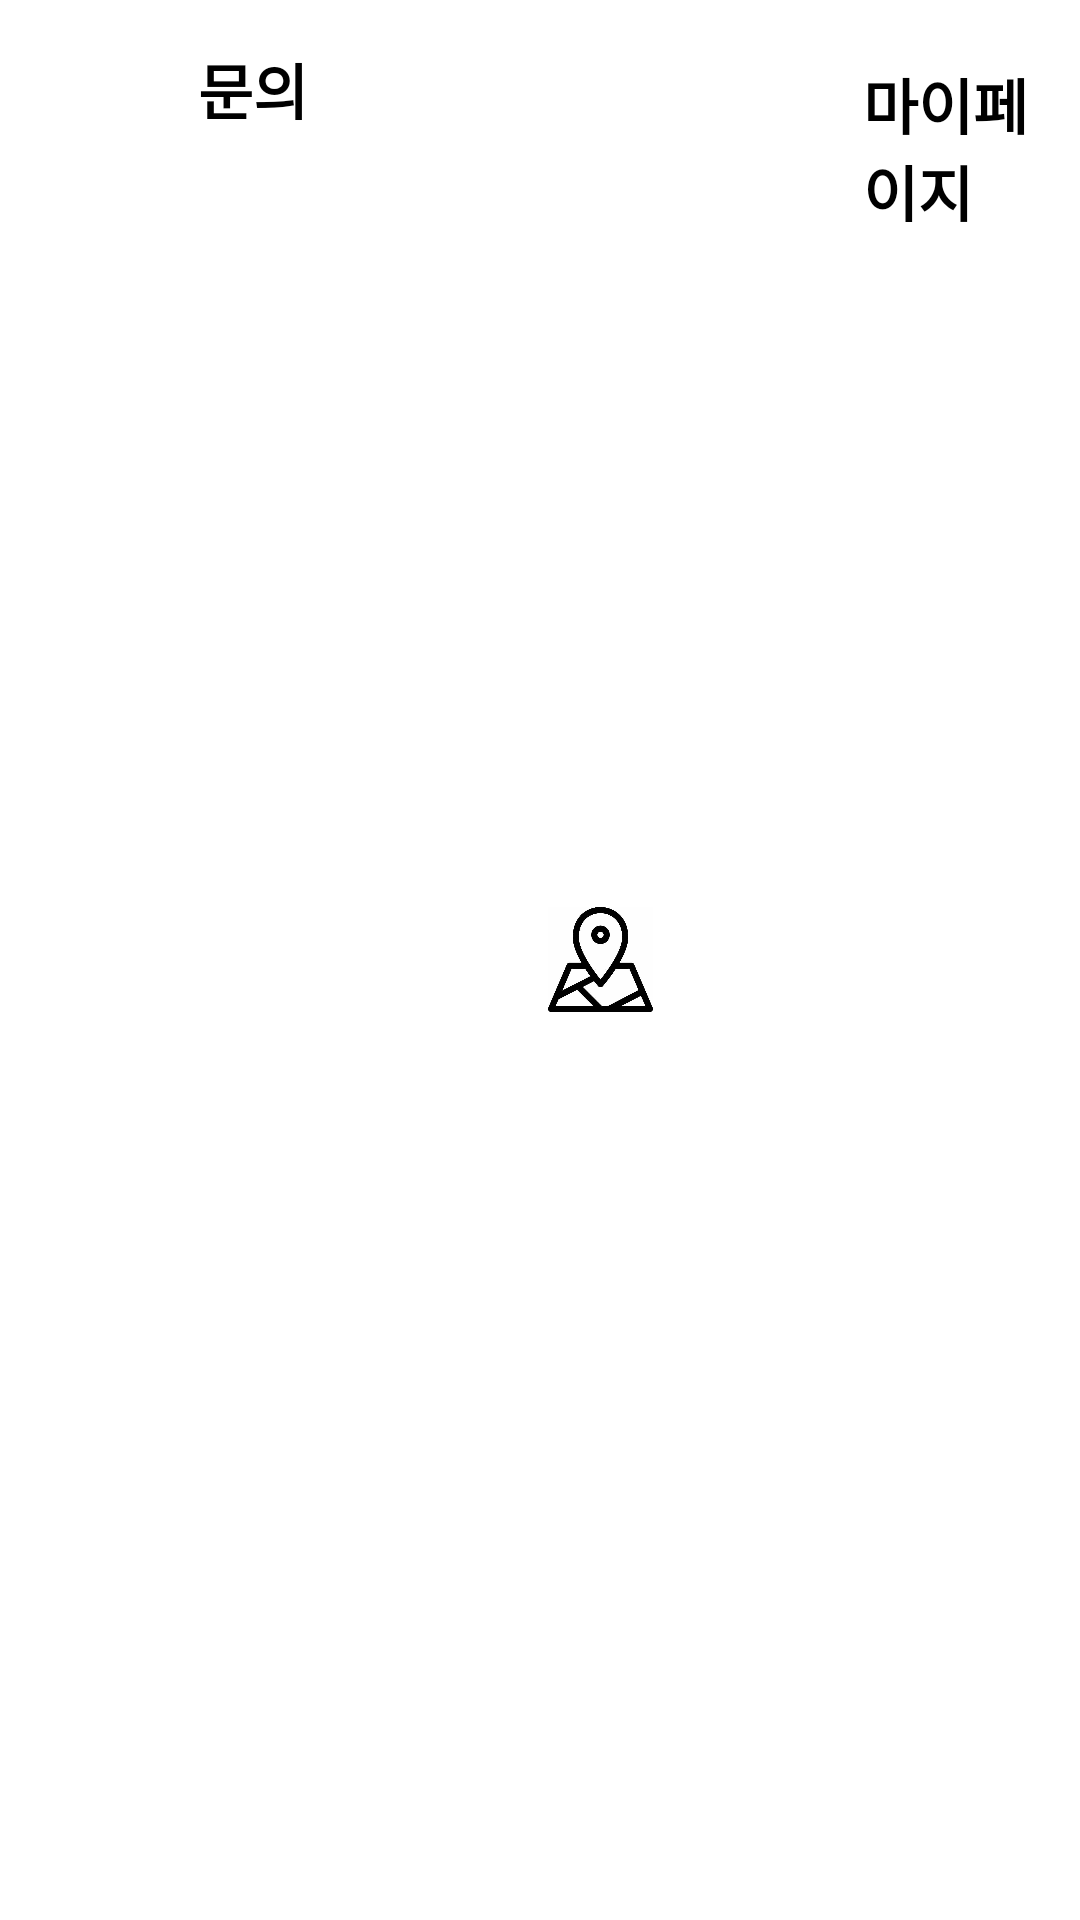

Icons on this 1080*1920 Android screen, each with its box as (left=x1, top=y1, right=x2, bottom=y2):
map: (left=548, top=907, right=653, bottom=1012)
